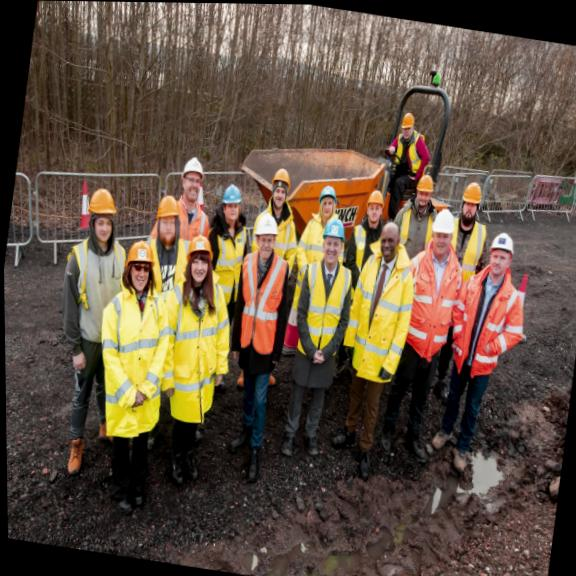safety_vest: (92, 281, 170, 434), (344, 240, 416, 388), (459, 258, 523, 404), (399, 241, 466, 378), (160, 285, 226, 419), (294, 255, 353, 379), (233, 249, 291, 368)
